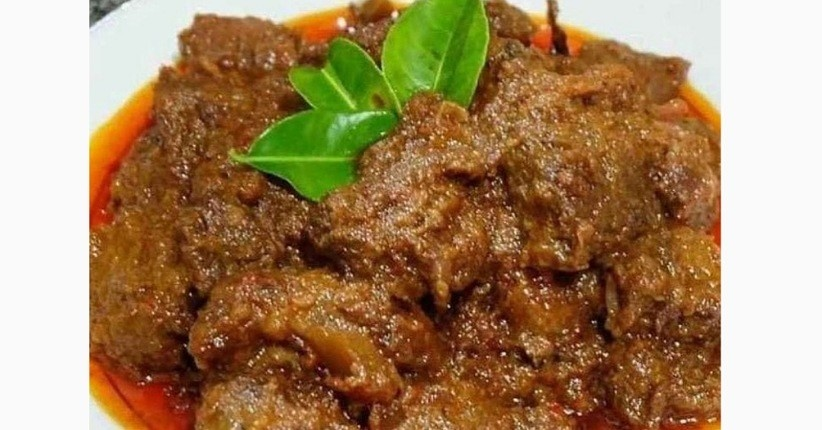rendang: (97, 28, 717, 428)
